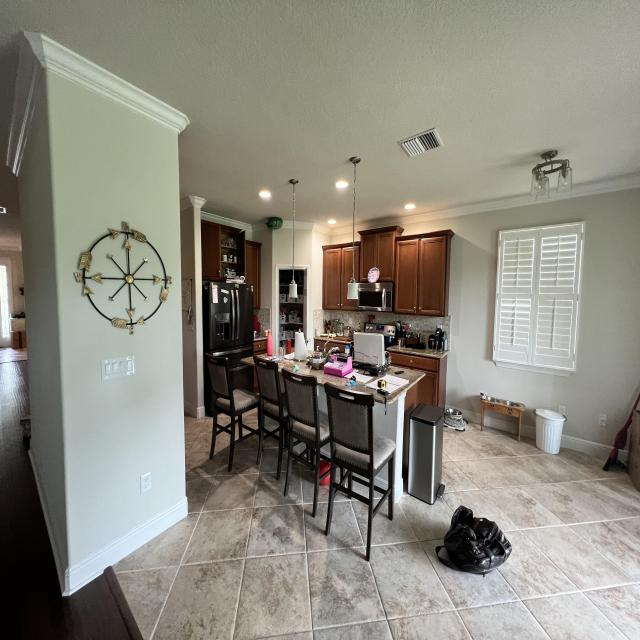Appliance_Fridge: (208, 283, 253, 391)
Appliance_Microwave: (357, 281, 394, 312)
Appliance_Oven: (364, 323, 396, 348)
Cabinet_Flat: (389, 350, 439, 372)
Cabinet_Shaker: (325, 227, 447, 316), (202, 221, 261, 312), (416, 374, 437, 406)
Countertop_Granite: (277, 360, 387, 404), (386, 345, 446, 359), (392, 367, 425, 390)
